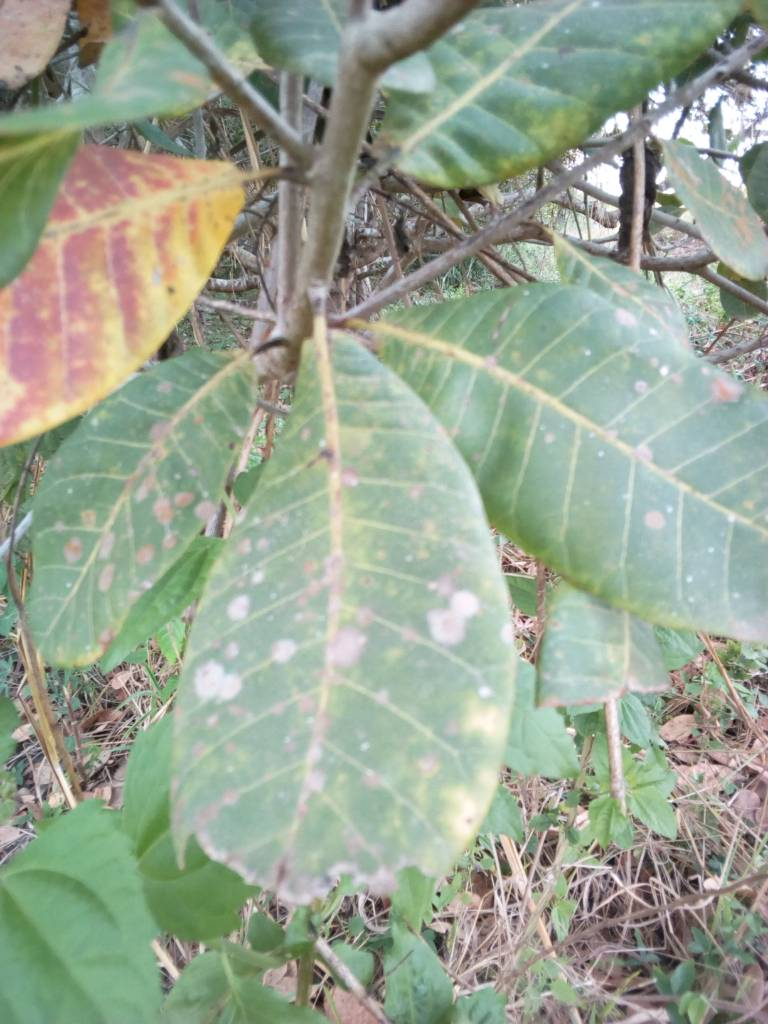Alternariose: (177, 333, 505, 892), (366, 285, 765, 638), (24, 336, 260, 669), (1, 147, 240, 449)
